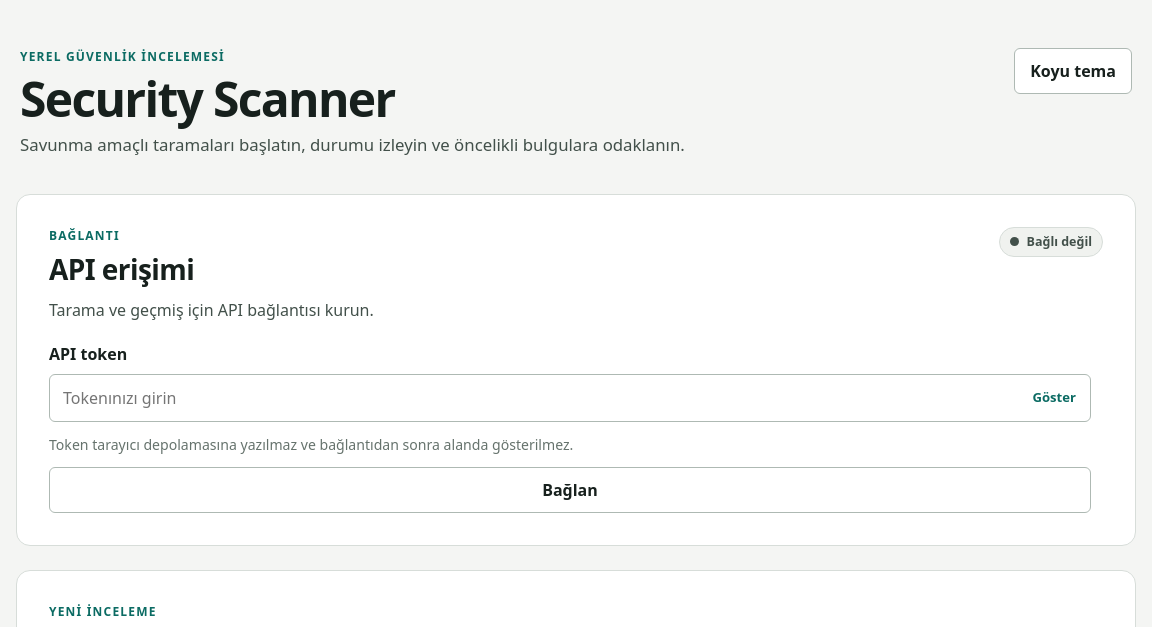
ScannerPage › geçersiz tokenı başarılı bağlantıdan ayırır
This screenshot has width=1152, height=627.
Type "geçersiz-token" into the field labelled "API token Göster" at (570, 398), box [49,374,1091,422]
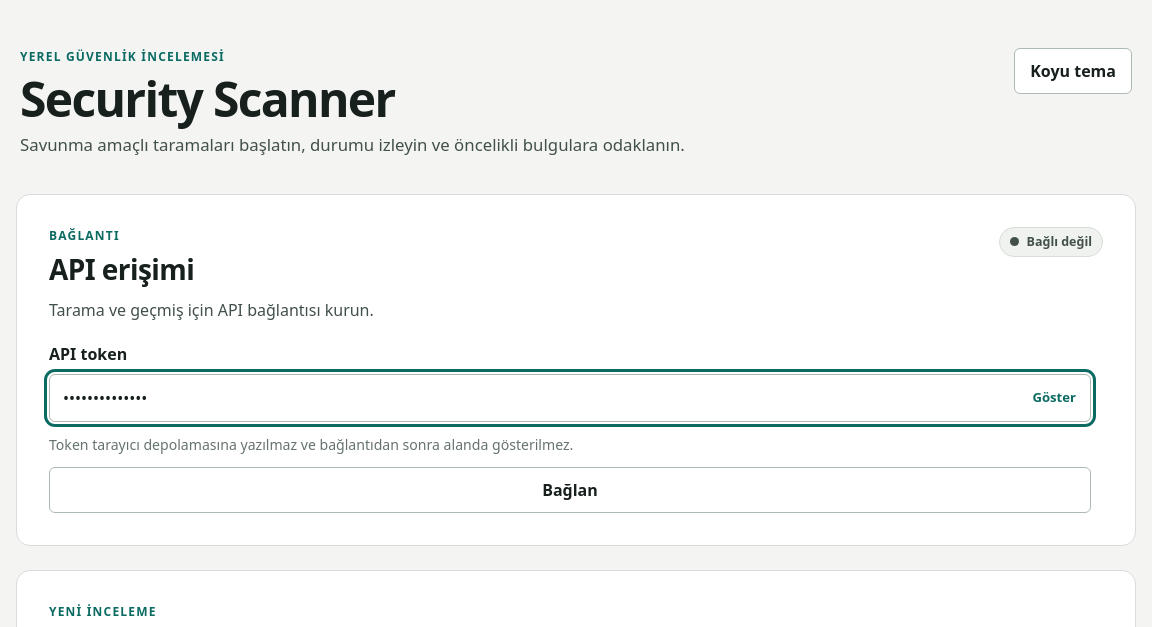
Click the button "Bağlan" at (570, 490), box [49,467,1091,513]
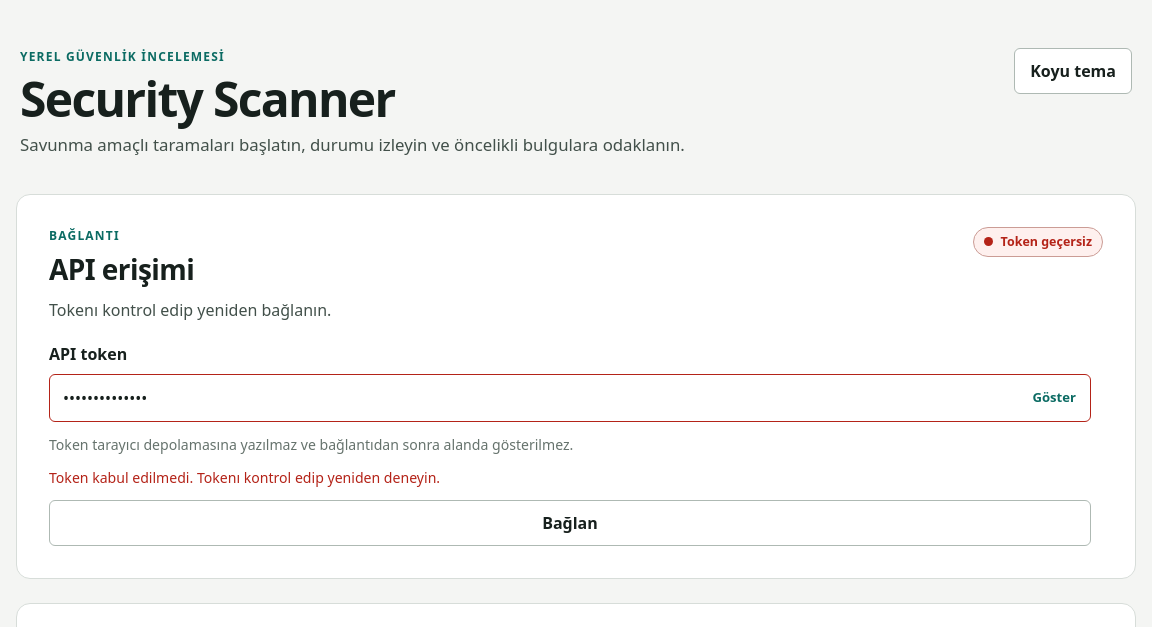
Now the text "Token geçersiz" is shown, box [973,227,1103,257]
Now the message "Token kabul edilmedi. Tokenı kontrol edip yeniden deneyin." is shown, box [49,468,440,487]
Now the text "Bağlı" is gone
